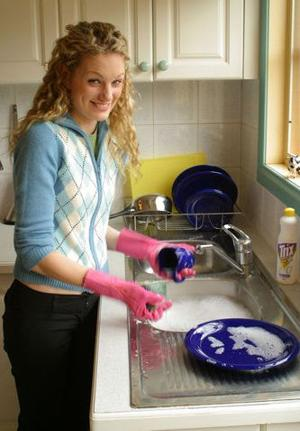person: (3, 22, 196, 431)
